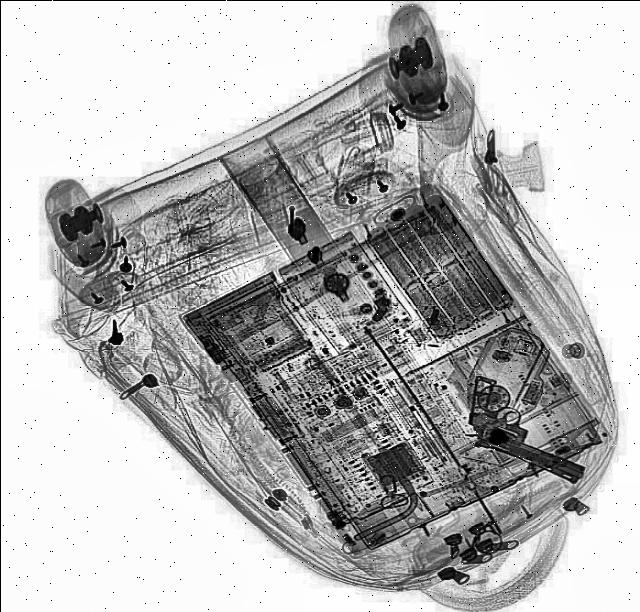Gun: (447, 372, 608, 484)
